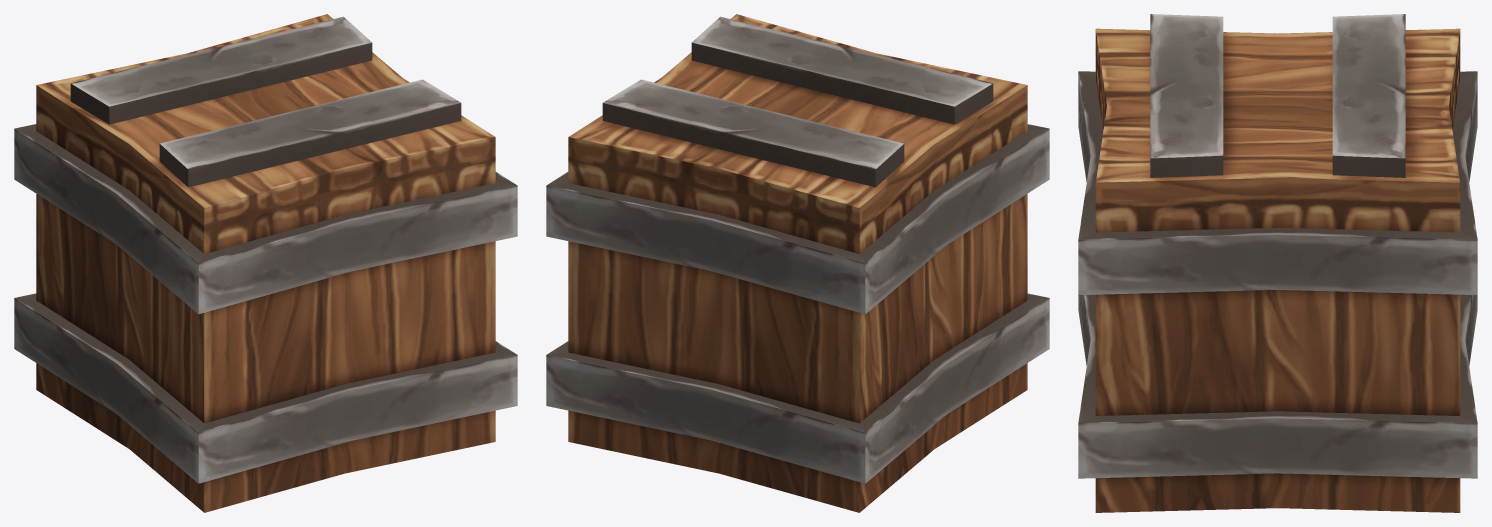
3 renders of one model, left to right at view 1: azimuth 30°, elevation 25°; view 2: azimuth 150°, elevation 25°; view 3: azimuth 270°, elevation 25°, orthographic. The views are drawn at different scales.
Parts seen in each view (by area): view 1: Box_1; view 2: Box_1; view 3: Box_1.
Part boxes in pixels (box(x1,y1,x2,y2)): Box_1: box(14, 14, 517, 512); Box_1: box(546, 14, 1049, 512); Box_1: box(1078, 14, 1477, 512).
Size of the model in its own units: 219 by 212 by 219.
